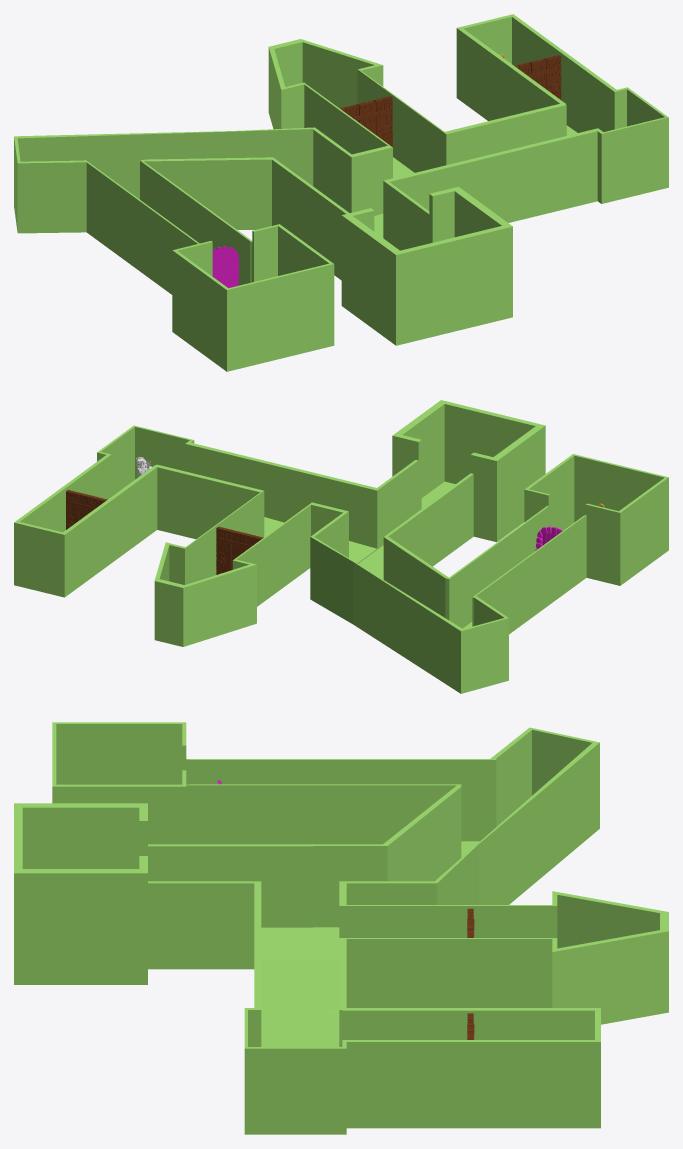
The model's file is maze.glb.
The picture shows the model from 3 angles, top to bottom: view 1: azimuth 30°, elevation 25°; view 2: azimuth 150°, elevation 25°; view 3: azimuth 270°, elevation 25°; orthographic projection. The views are drawn at different scales.
Parts seen in each view (by area): view 1: maze, door_3, door_1, door_2; view 2: maze, door_3, door_1; view 3: maze.
Boxes of the visible parts, x1,y1,x2,y2 form: maze: (14, 14, 668, 371); door_3: (340, 96, 392, 146); door_1: (514, 55, 561, 99); door_2: (212, 246, 239, 287); maze: (14, 400, 668, 693); door_3: (216, 526, 263, 574); door_1: (66, 490, 107, 529); maze: (14, 722, 668, 1134).
Size of the model in its own units: 46.76 by 7.67 by 40.31.
